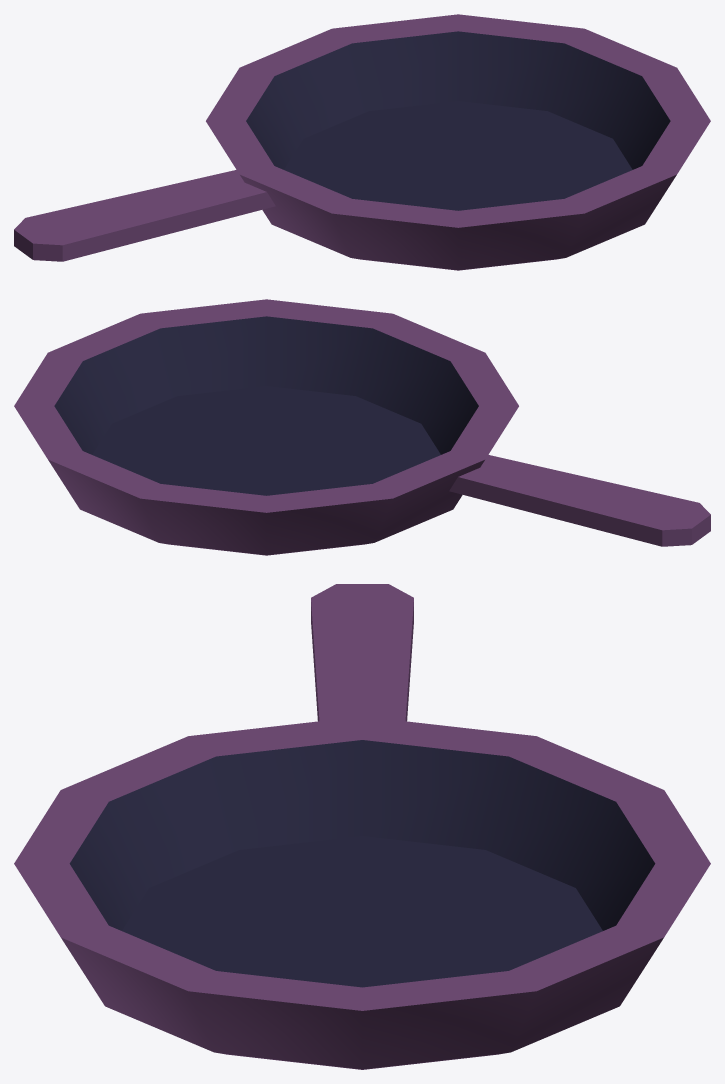
File: _rying_Pan.fbx
3 renders of one model, top to bottom at view 1: azimuth 30°, elevation 25°; view 2: azimuth 150°, elevation 25°; view 3: azimuth 270°, elevation 25°, orthographic. The views are drawn at different scales.
Visible parts, largest first — view 1: Frying_Pan; view 2: Frying_Pan; view 3: Frying_Pan.
Boxes of the visible parts, left/top/right/bottom form: Frying_Pan: left=14, top=14, right=710, bottom=270; Frying_Pan: left=14, top=299, right=710, bottom=555; Frying_Pan: left=14, top=584, right=710, bottom=1069.
Bounding box in the file's own units: 0.0298 × 0.0031 × 0.02.
